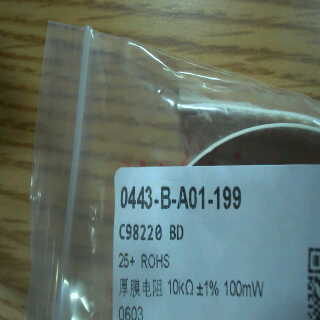10kR: (165, 275, 197, 299)
